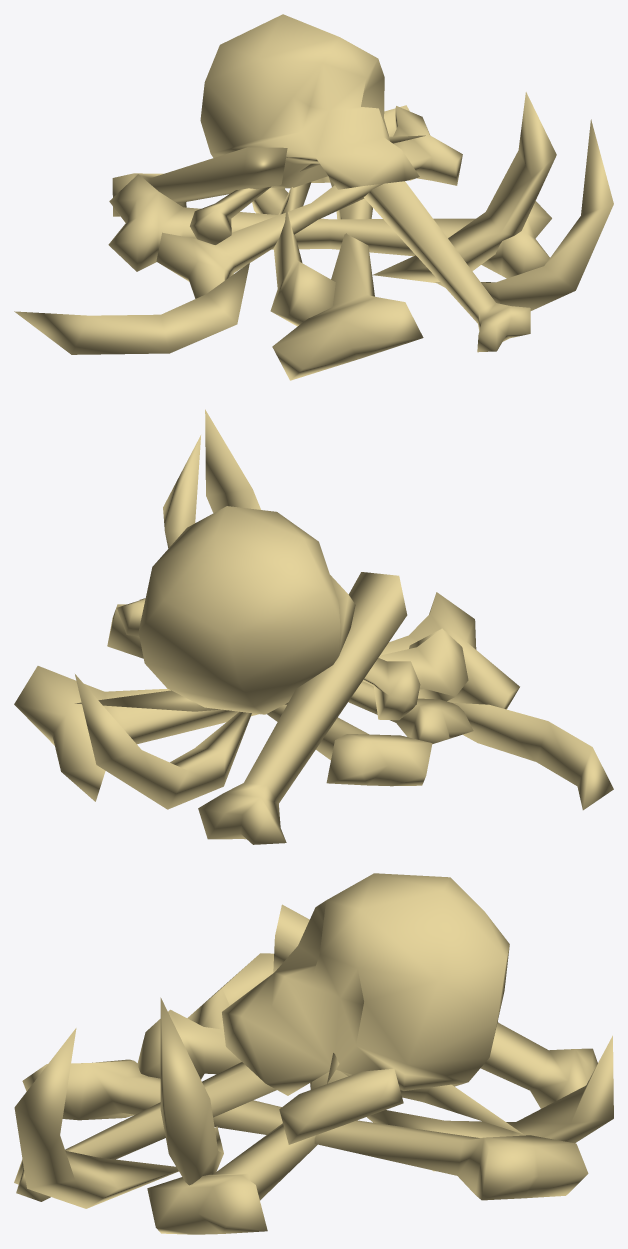
The model's file is bone-pile.glb.
The picture shows the model from 3 angles, top to bottom: view 1: azimuth 30°, elevation 25°; view 2: azimuth 150°, elevation 25°; view 3: azimuth 270°, elevation 25°; orthographic projection. The views are drawn at different scales.
Bounding box in the file's own units: 85.93 × 40.99 × 75.4.
